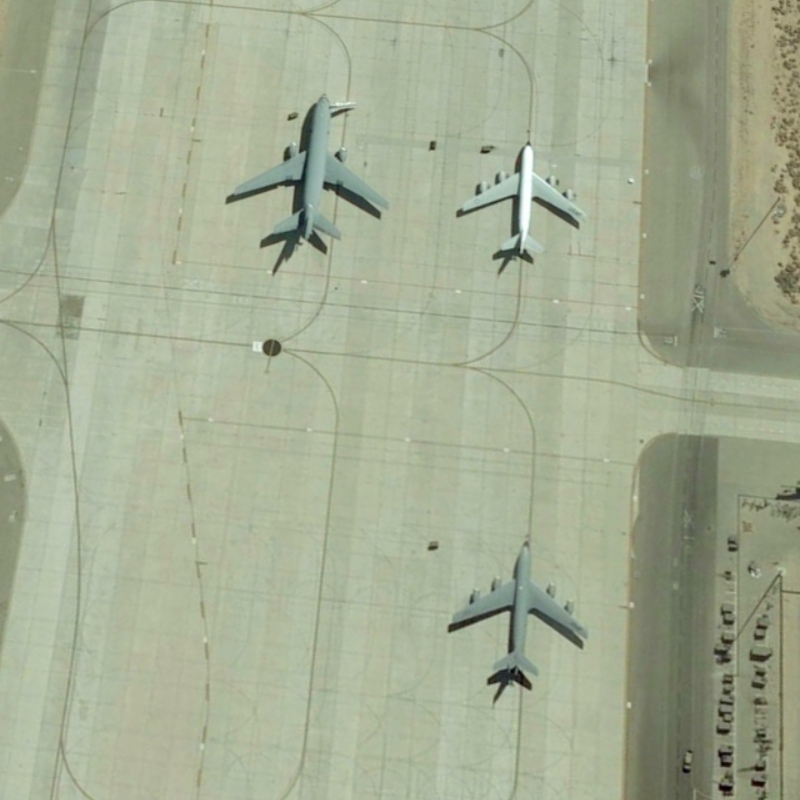A11: (453, 134, 591, 269)
A14: (443, 534, 591, 683)
A18: (221, 87, 395, 253)
